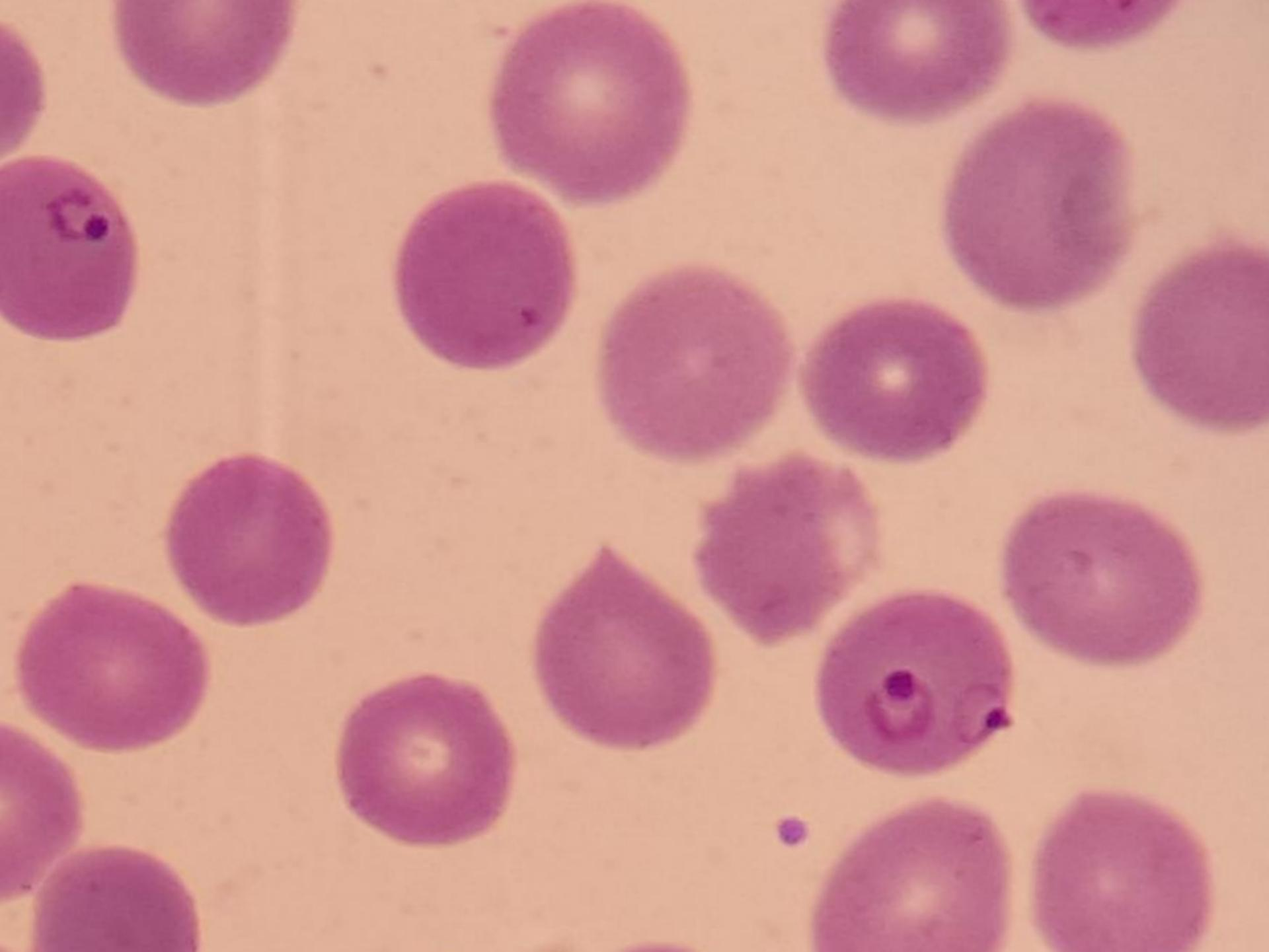Infected: (821, 592, 1020, 775), (0, 154, 133, 340)
Uninfected: (487, 17, 689, 212), (603, 263, 790, 462), (947, 103, 1129, 306), (537, 542, 712, 750), (696, 451, 877, 648), (395, 180, 573, 366), (1008, 496, 1201, 665), (15, 587, 210, 751), (820, 796, 1010, 952), (810, 301, 991, 464), (339, 674, 507, 842), (1036, 795, 1213, 952), (170, 455, 334, 620), (1134, 243, 1269, 431), (825, 2, 1006, 126), (117, 0, 293, 107), (38, 849, 199, 952)
